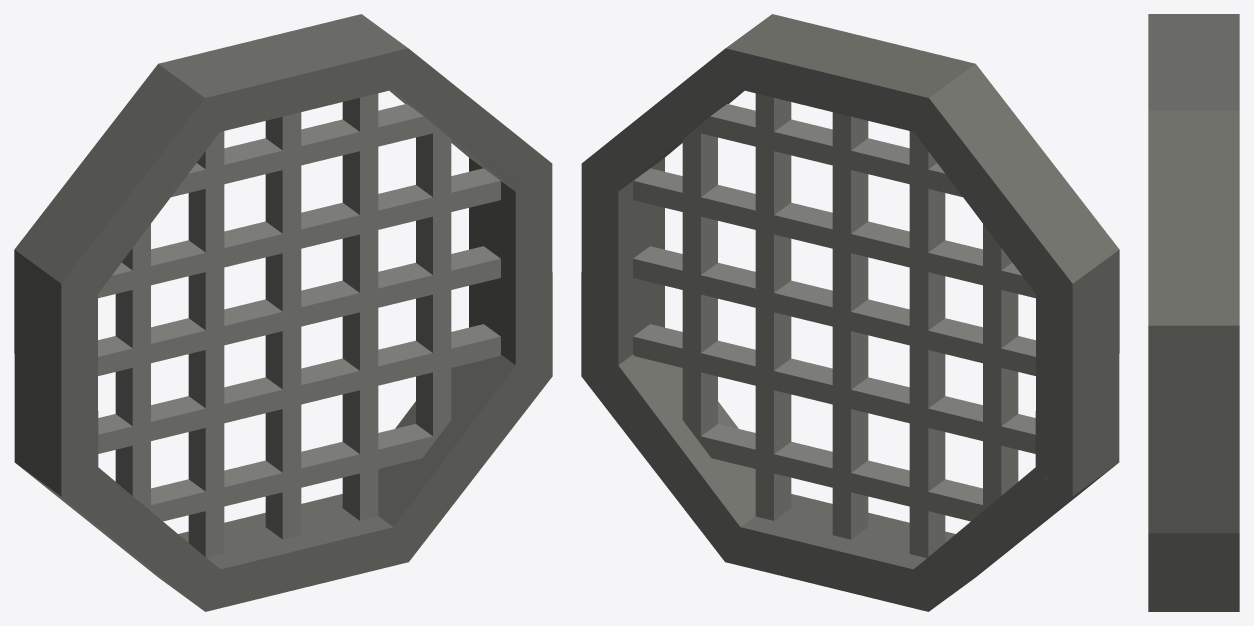
The model's file is Grate.fbx.
3 renders of one model, left to right at view 1: azimuth 30°, elevation 25°; view 2: azimuth 150°, elevation 25°; view 3: azimuth 270°, elevation 25°, orthographic. The views are drawn at different scales.
Parts seen in each view (by area): view 1: Grate; view 2: Grate; view 3: Grate.
Boxes of the visible parts, x1,y1,x2,y2 form: Grate: [14, 14, 552, 611]; Grate: [581, 14, 1119, 611]; Grate: [1148, 14, 1239, 611].
Size of the model in its own units: 16.57 by 16.57 by 2.74.
Materials: 1 (1 with a texture image).
